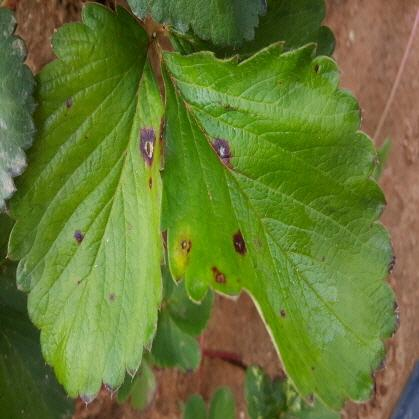Leaf Spot: (160, 39, 401, 412), (7, 3, 166, 405)
